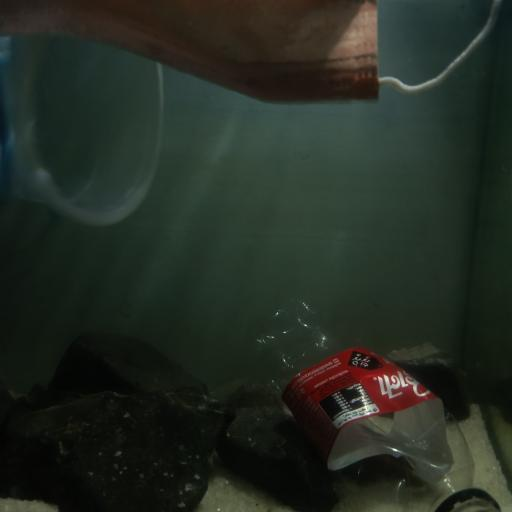mask: (0, 0, 507, 104)
plastic_bottle: (245, 297, 503, 512)
plastic_cup: (0, 37, 168, 227)
